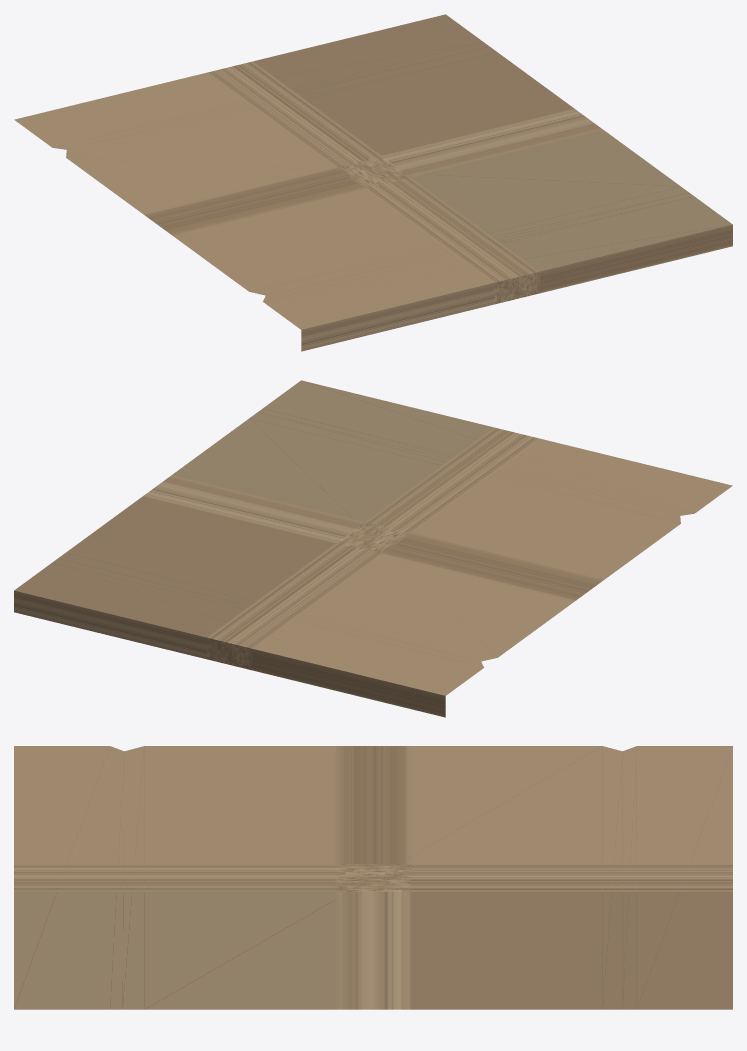
3 renders of one model, top to bottom at view 1: azimuth 30°, elevation 25°; view 2: azimuth 150°, elevation 25°; view 3: azimuth 270°, elevation 25°, orthographic. The views are drawn at different scales.
Visible parts, largest first — view 1: 对象3167_网格.013_网格.012; view 2: 对象3167_网格.013_网格.012; view 3: 对象3167_网格.013_网格.012.
Boxes of the visible parts, bbox=[...] form: 对象3167_网格.013_网格.012: bbox=[14, 14, 732, 351]; 对象3167_网格.013_网格.012: bbox=[14, 380, 732, 717]; 对象3167_网格.013_网格.012: bbox=[14, 746, 732, 1009].
Size of the model in its own units: 19.79 by 0.95 by 22.8.
Materials: 1 (1 with a texture image).
